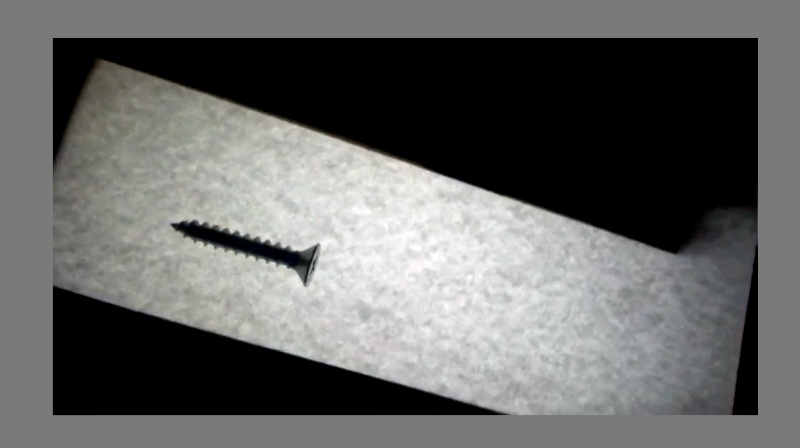S001: (164, 217, 324, 290)
